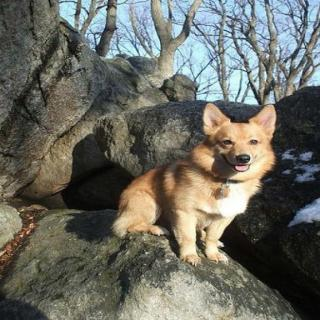dog: (194, 96, 283, 186)
nose: (235, 150, 251, 165)
